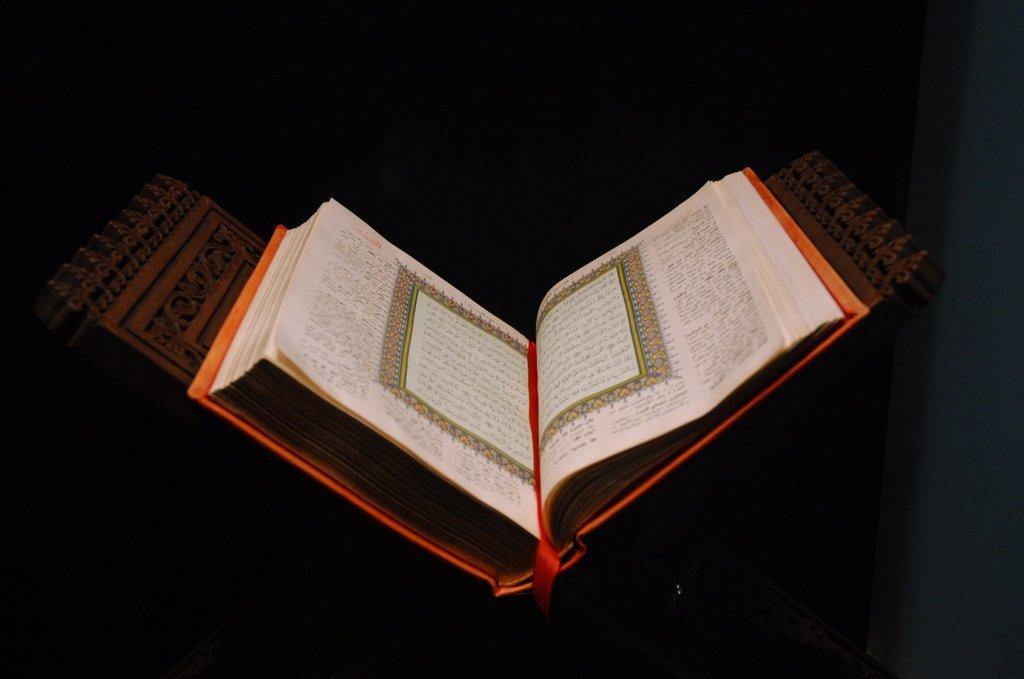book: (181, 160, 871, 603)
